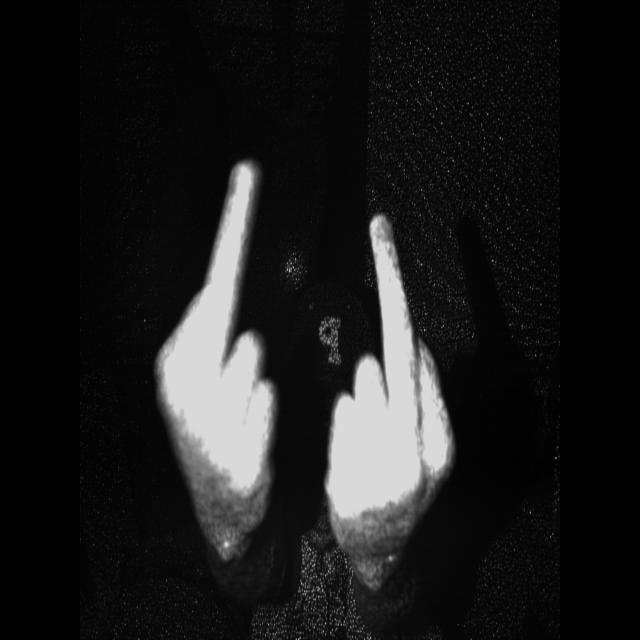FUCK YOU: (144, 141, 292, 537), (310, 215, 464, 544)
